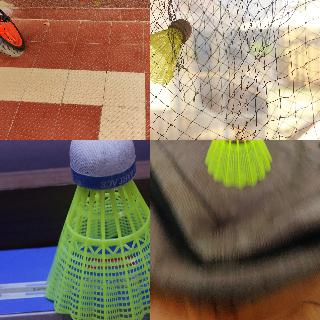shuttlecock: (44, 140, 149, 319), (205, 140, 274, 188), (150, 19, 192, 85)
